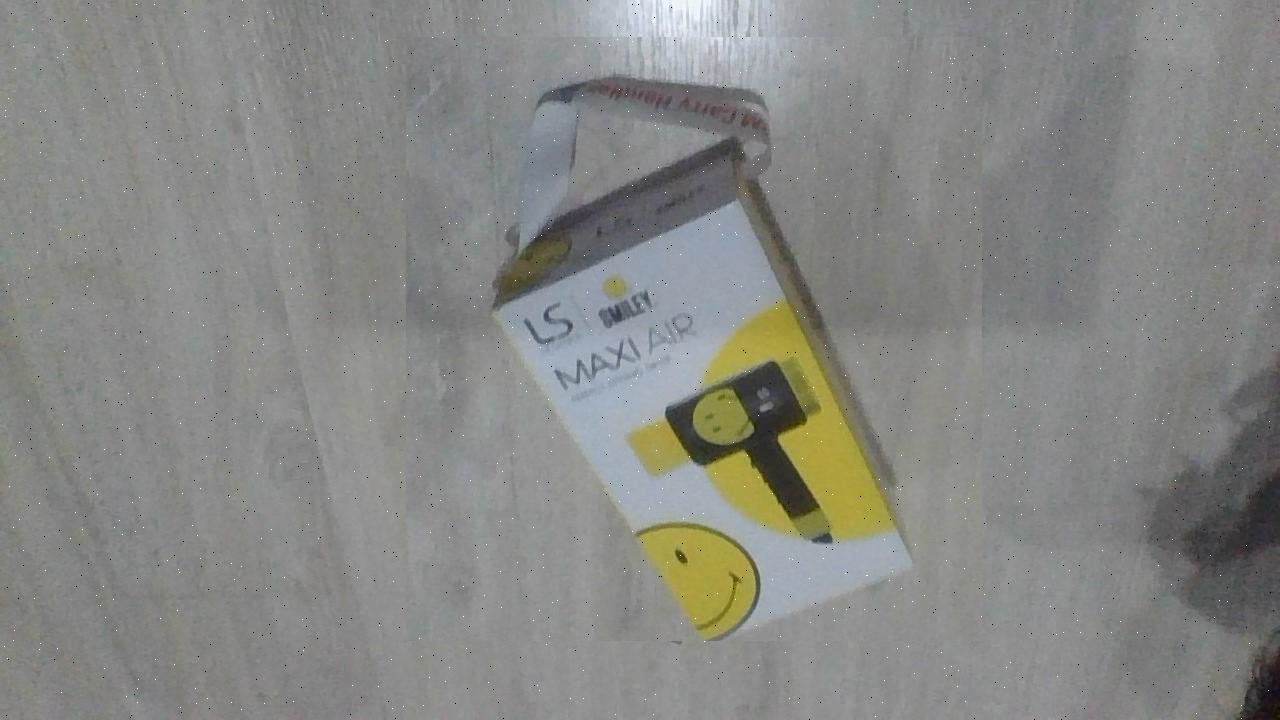Dryer: (406, 37, 982, 641)
